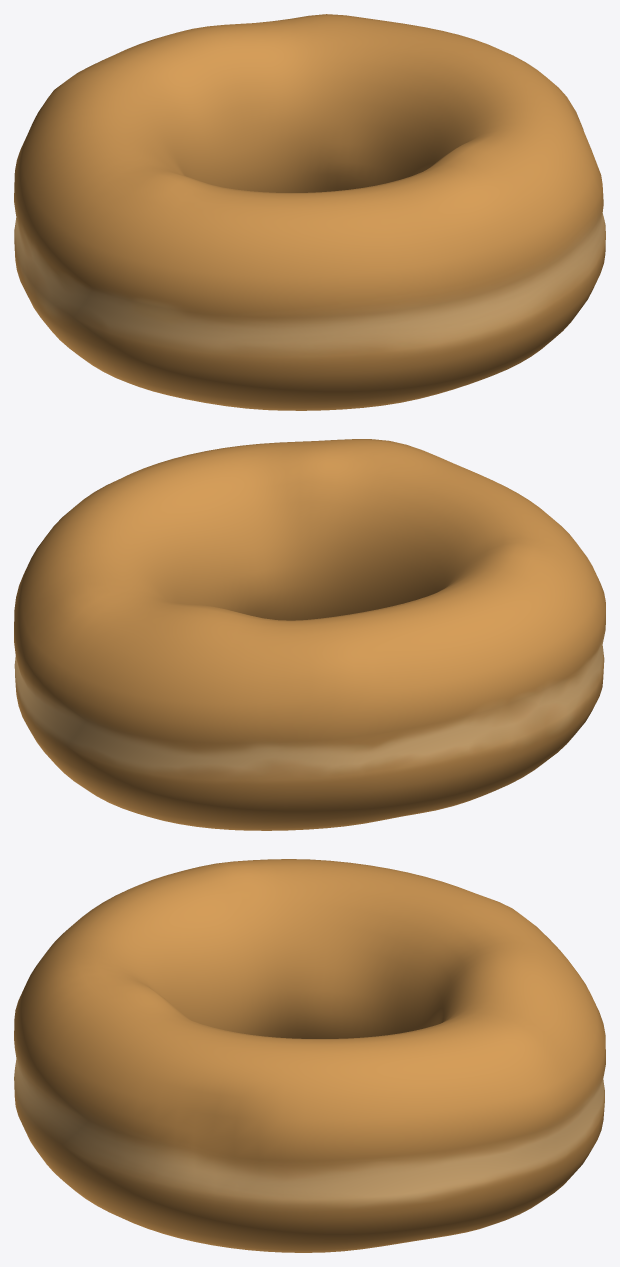
Rendered from dough.glb.
3 renders of one model, top to bottom at view 1: azimuth 30°, elevation 25°; view 2: azimuth 150°, elevation 25°; view 3: azimuth 270°, elevation 25°, orthographic. The views are drawn at different scales.
Visible parts, largest first — view 1: donut; view 2: donut; view 3: donut.
Boxes of the visible parts, x1=… form: donut: x1=14, y1=14, x2=605, y2=410; donut: x1=14, y1=439, x2=605, y2=830; donut: x1=14, y1=859, x2=605, y2=1252.
Size of the model in its own units: 0.1498 by 0.0598 by 0.1498.
1 material, 1 textured.
